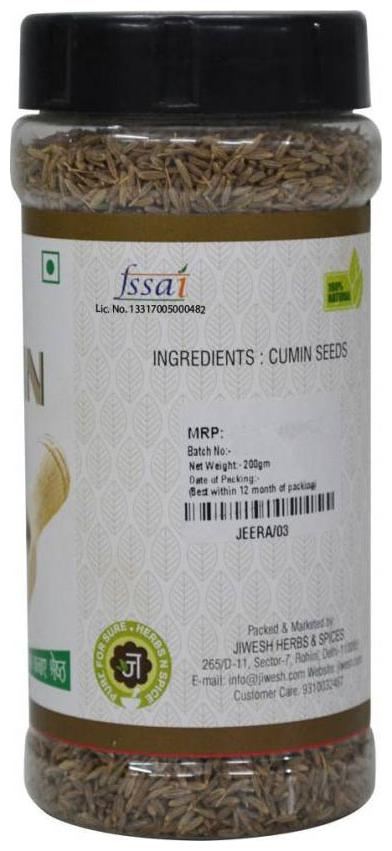fssai: (109, 263, 192, 302)
